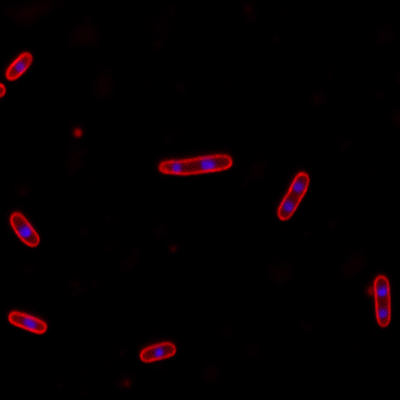CAM: (153, 150, 235, 178), (274, 171, 312, 222), (368, 273, 393, 329), (8, 209, 41, 248), (6, 307, 49, 335), (136, 338, 177, 365), (4, 50, 34, 81)
Vesicle: (165, 243, 180, 257), (119, 375, 133, 388), (72, 124, 84, 139)
